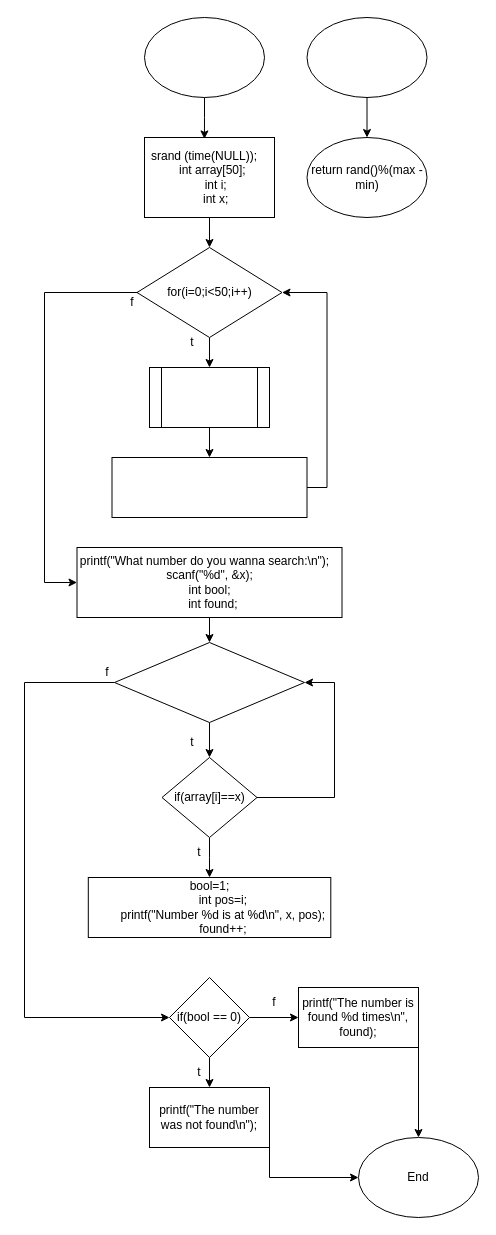
Some shapes in this 496 by 1235 pixel diagram are drawn without their labels. The box of each missing label's shape, as (x1, y1, x2, y2) in pixels:
for(i=0;i<40;i++): (114, 642, 304, 722)
iint random_gen(int max, int min): (306, 16, 427, 98)
int numb = random_gen(1,0);: (148, 366, 270, 428)
int numb = random_gen(50,1); array[i]=numb;: (111, 456, 307, 518)
Start: (144, 16, 264, 98)
